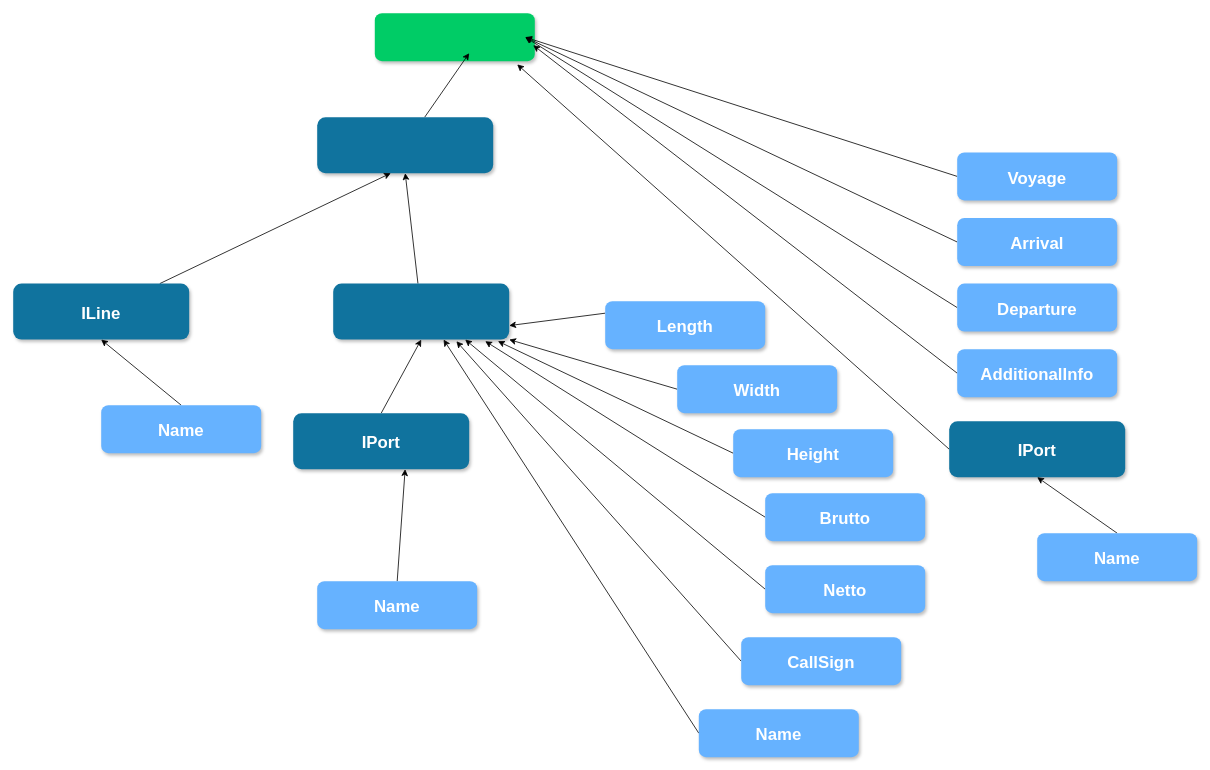
This 1210x770 diagram has some shape labels left out. The shapes that lost their labels are listed below. From the top down, each one's centre as x and y in pixels, then its label:
point (455, 38): IShipCall
point (406, 146): IRoute
point (422, 312): IVessel
